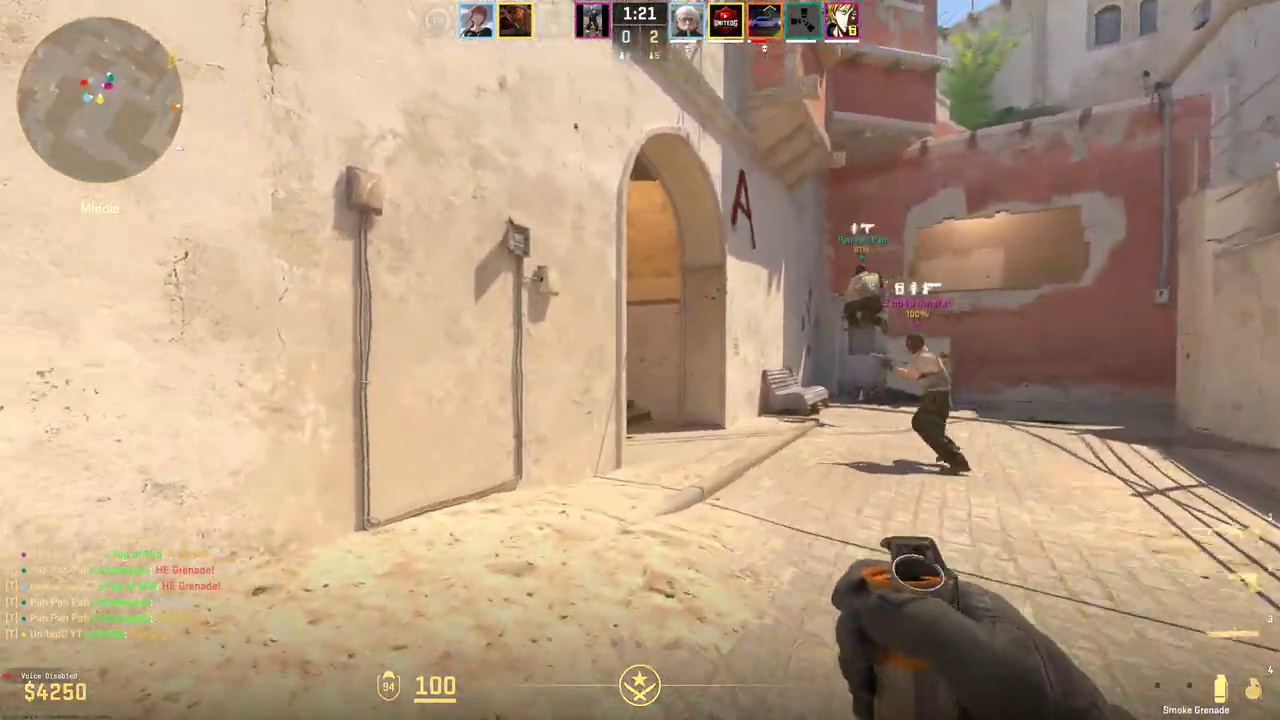Terrorist: (906, 332, 964, 476), (844, 264, 887, 330)
